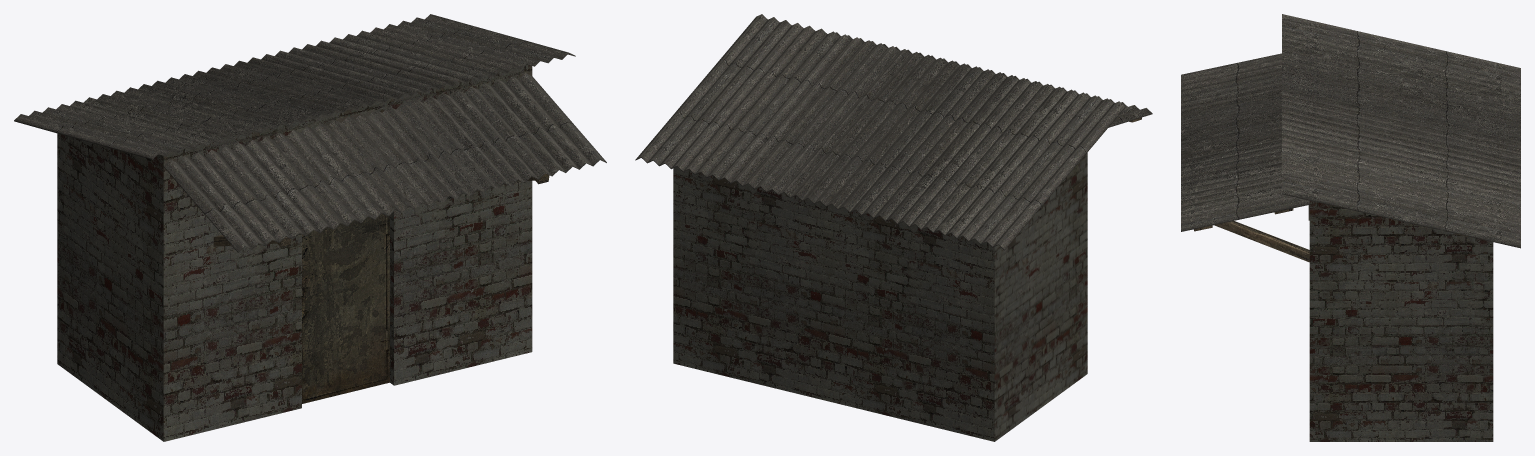
The model's file is shed_ax_2.glb.
The picture shows the model from 3 angles, left to right: view 1: azimuth 30°, elevation 25°; view 2: azimuth 150°, elevation 25°; view 3: azimuth 270°, elevation 25°; orthographic projection. The views are drawn at different scales.
Parts seen in each view (by area): view 1: shed_ax_2, door_hr_3; view 2: shed_ax_2; view 3: shed_ax_2.
Part boxes in pixels (x1,y1,x2,y2): shed_ax_2: (14, 14, 606, 441); door_hr_3: (302, 213, 389, 403); shed_ax_2: (635, 14, 1152, 441); shed_ax_2: (1181, 14, 1520, 441).
Size of the model in its own units: 4.59 by 3.17 by 3.7.
Materials: 5 (5 with a texture image).
